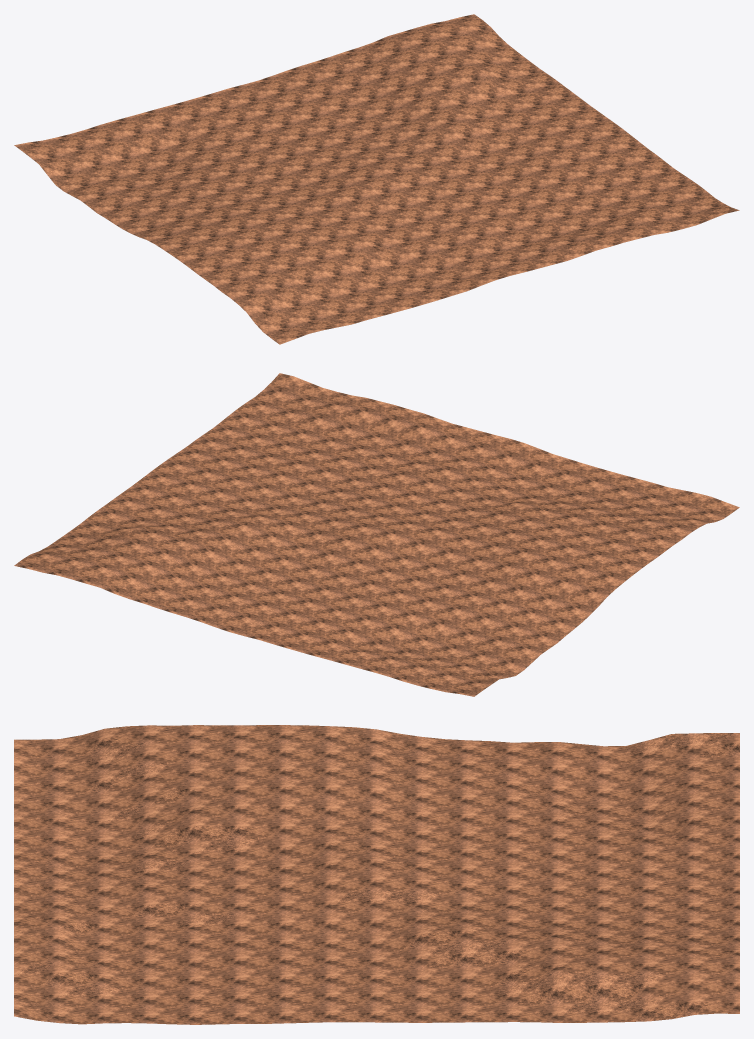
The model's file is terrain_07_21.dae.
3 views of the same model, one above another, from view 1: azimuth 30°, elevation 25°; view 2: azimuth 150°, elevation 25°; view 3: azimuth 270°, elevation 25° (orthographic). The views are drawn at different scales.
Visible parts, largest first — view 1: terrain_07_21-node; view 2: terrain_07_21-node; view 3: terrain_07_21-node.
Boxes of the visible parts, x1,y1,x2,y2 form: terrain_07_21-node: (14, 14, 739, 344); terrain_07_21-node: (14, 373, 739, 696); terrain_07_21-node: (14, 725, 739, 1024).
Size of the model in its own units: 128 by 128 by 8.43.
1 material, 1 textured.
